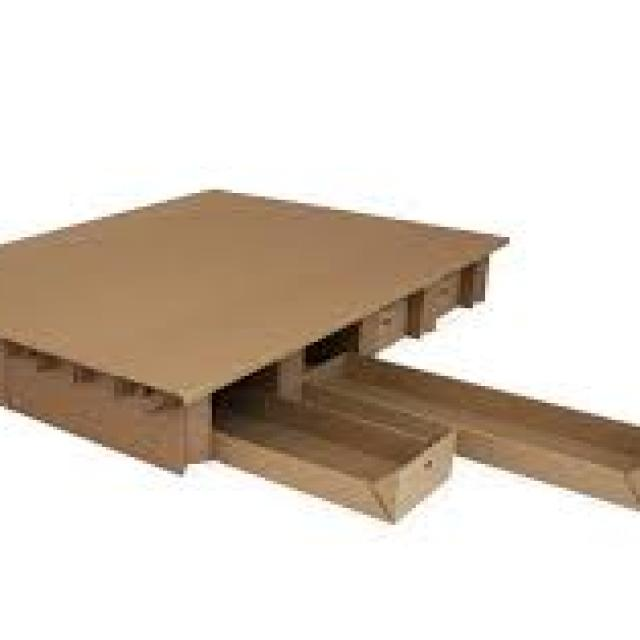organic: (3, 151, 636, 586)
